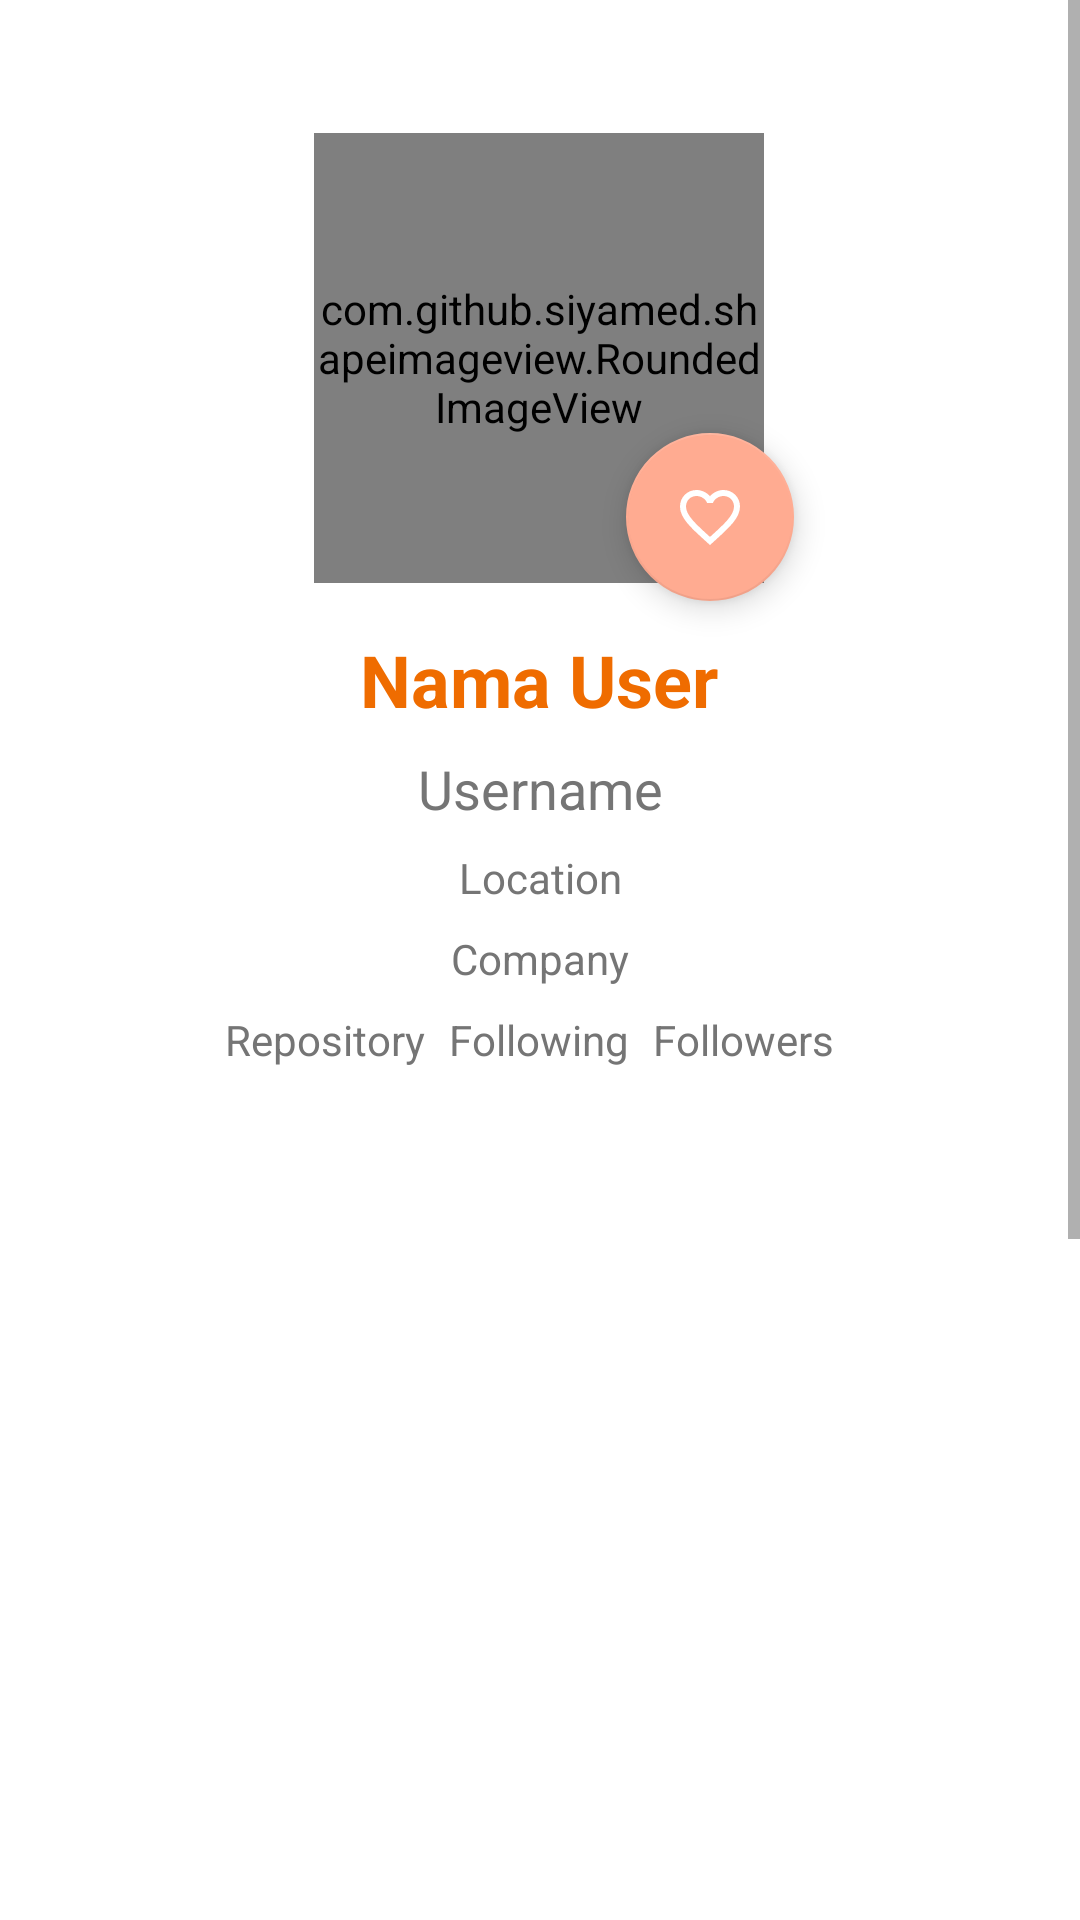

Screen size 1080x1920. Icon name, then its center in pixels as (x=x, y=y):
favbutton: (x=710, y=517)
